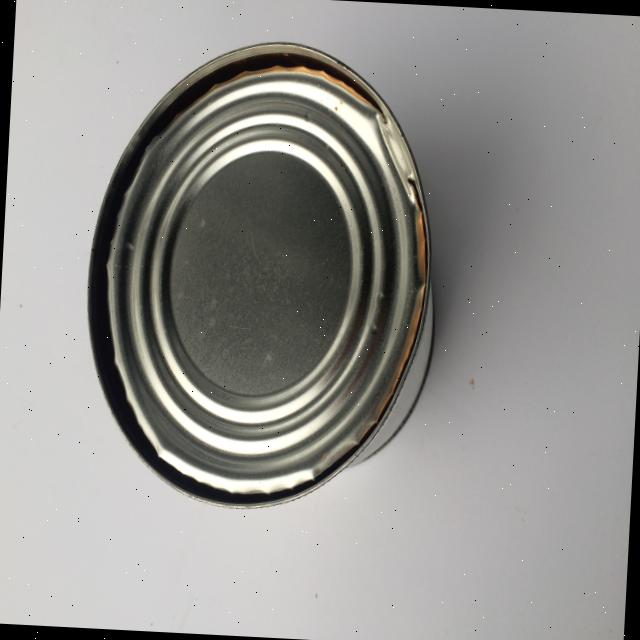metal: (77, 32, 450, 520)
